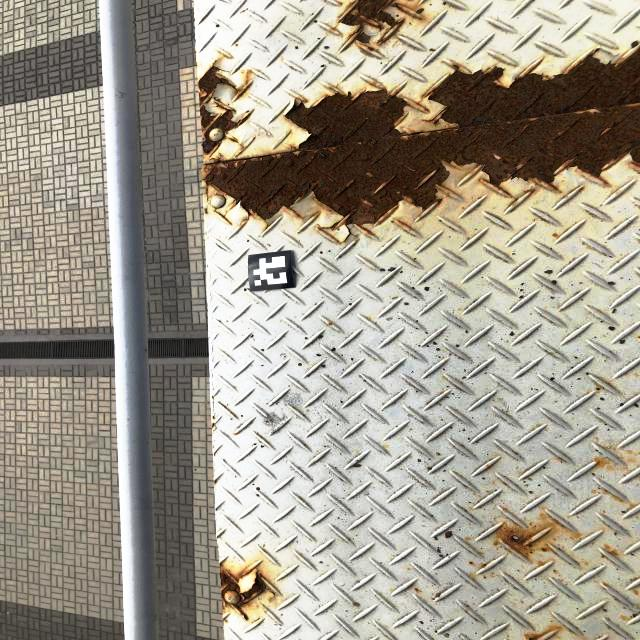Corrosion: (203, 50, 640, 224), (338, 0, 425, 44), (198, 65, 239, 153), (221, 562, 267, 624), (494, 524, 542, 557), (524, 627, 559, 640)
